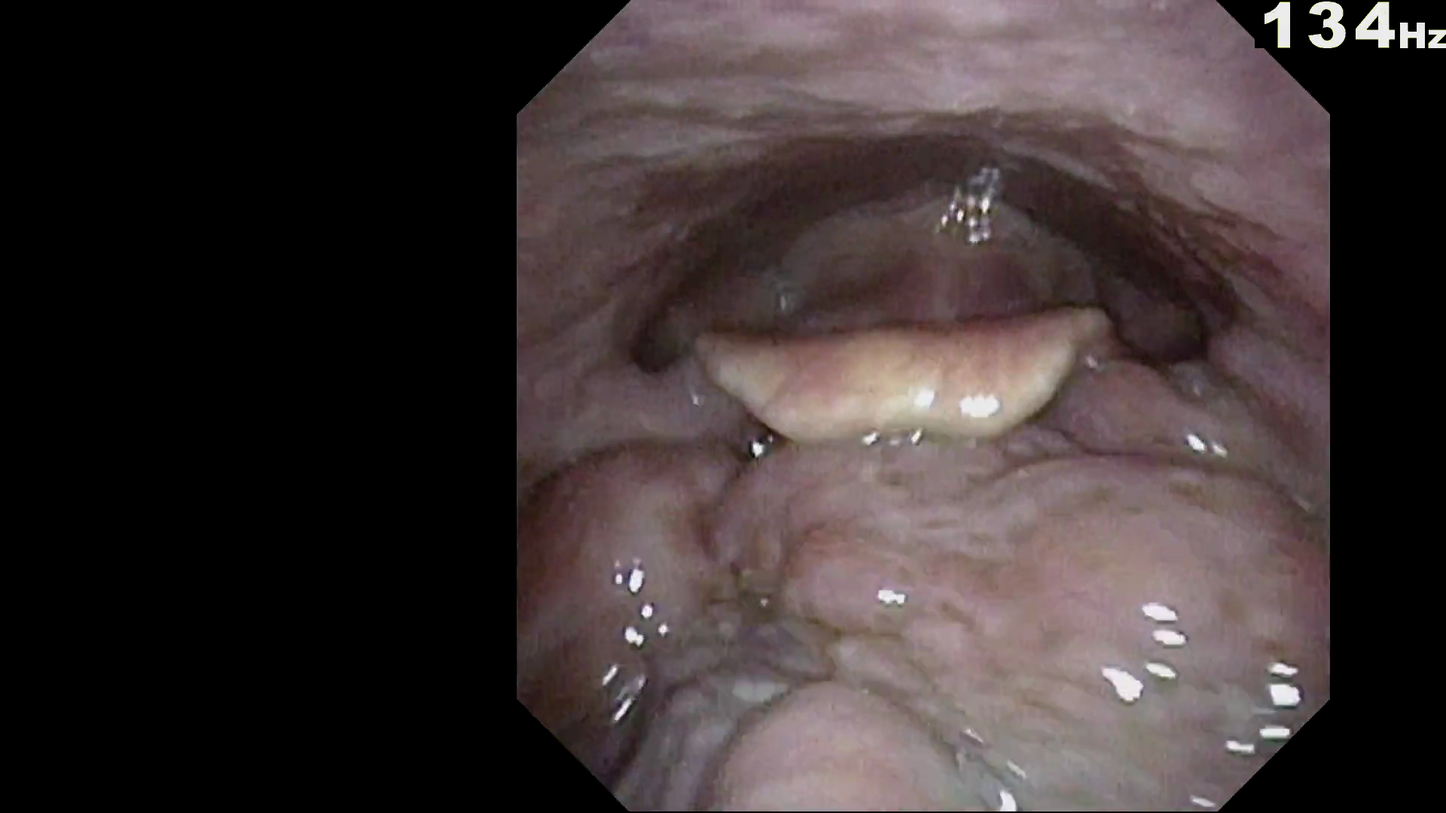epiglottis: (658, 312, 1125, 431)
